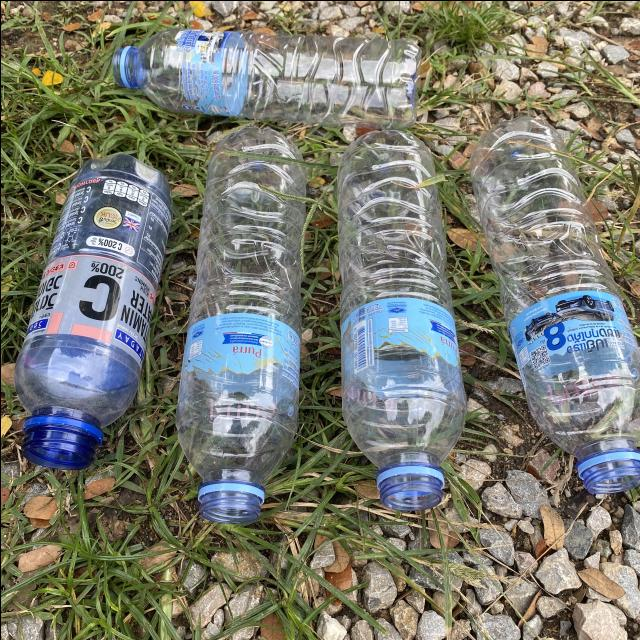plastik: (469, 116, 640, 492), (175, 126, 305, 522), (13, 154, 171, 468), (337, 129, 464, 511), (112, 28, 420, 128)
